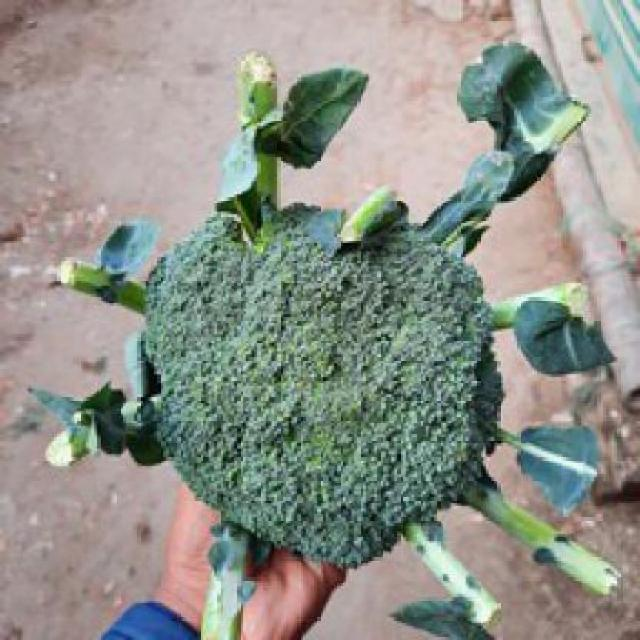broccoli: (127, 190, 498, 552)
